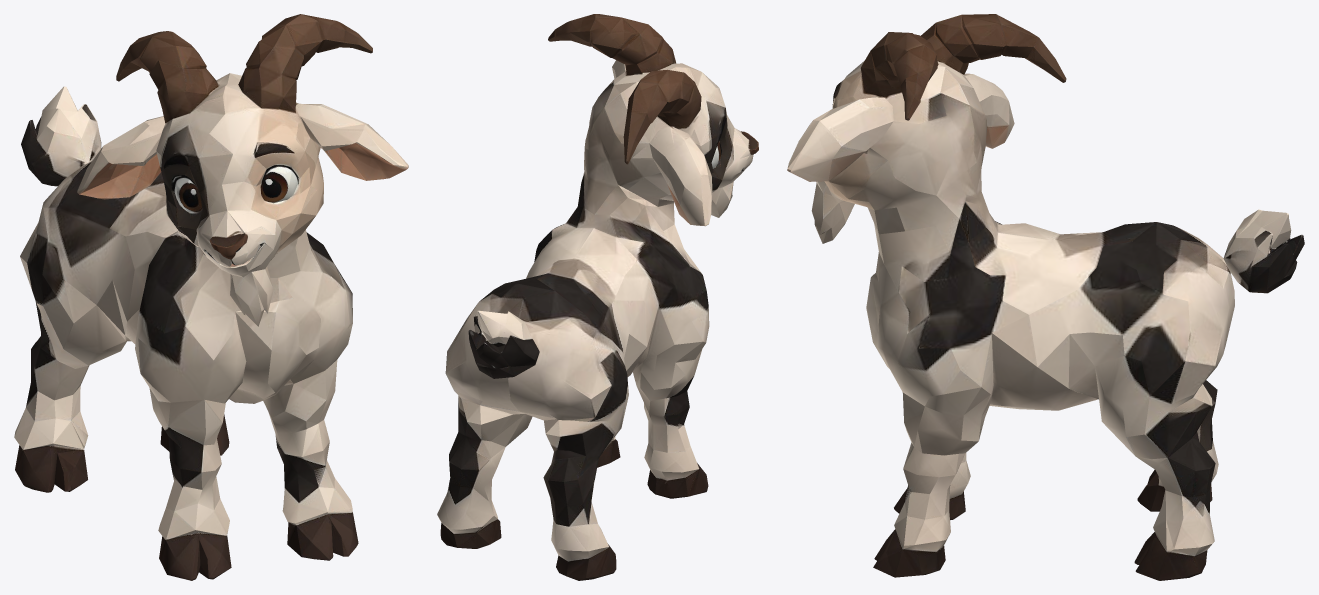
File: goat-b.glb
3 renders of one model, left to right at view 1: azimuth 30°, elevation 25°; view 2: azimuth 150°, elevation 25°; view 3: azimuth 270°, elevation 25°, orthographic. The views are drawn at different scales.
Bounding box in the file's own units: 0.9131 × 1.9 × 1.73.
1 material, 1 textured.
